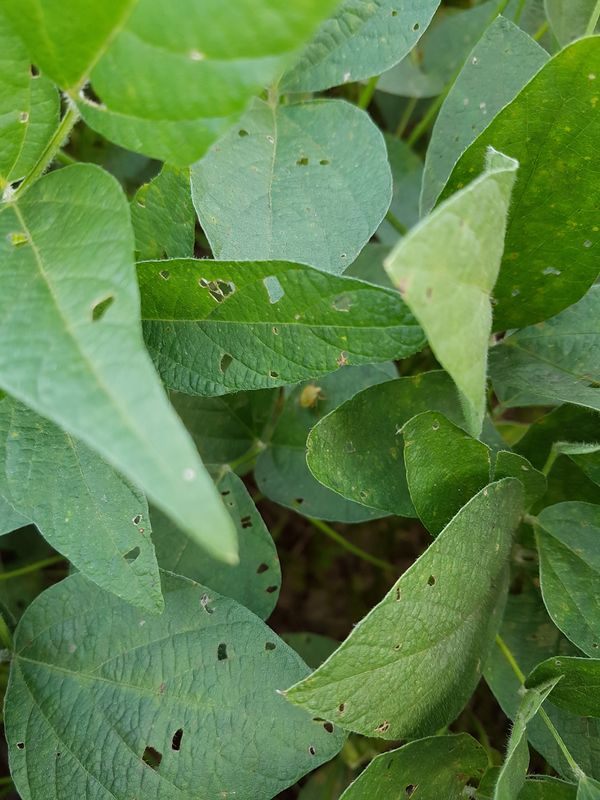Euschistus_heros_ninfa: (289, 378, 333, 416)
